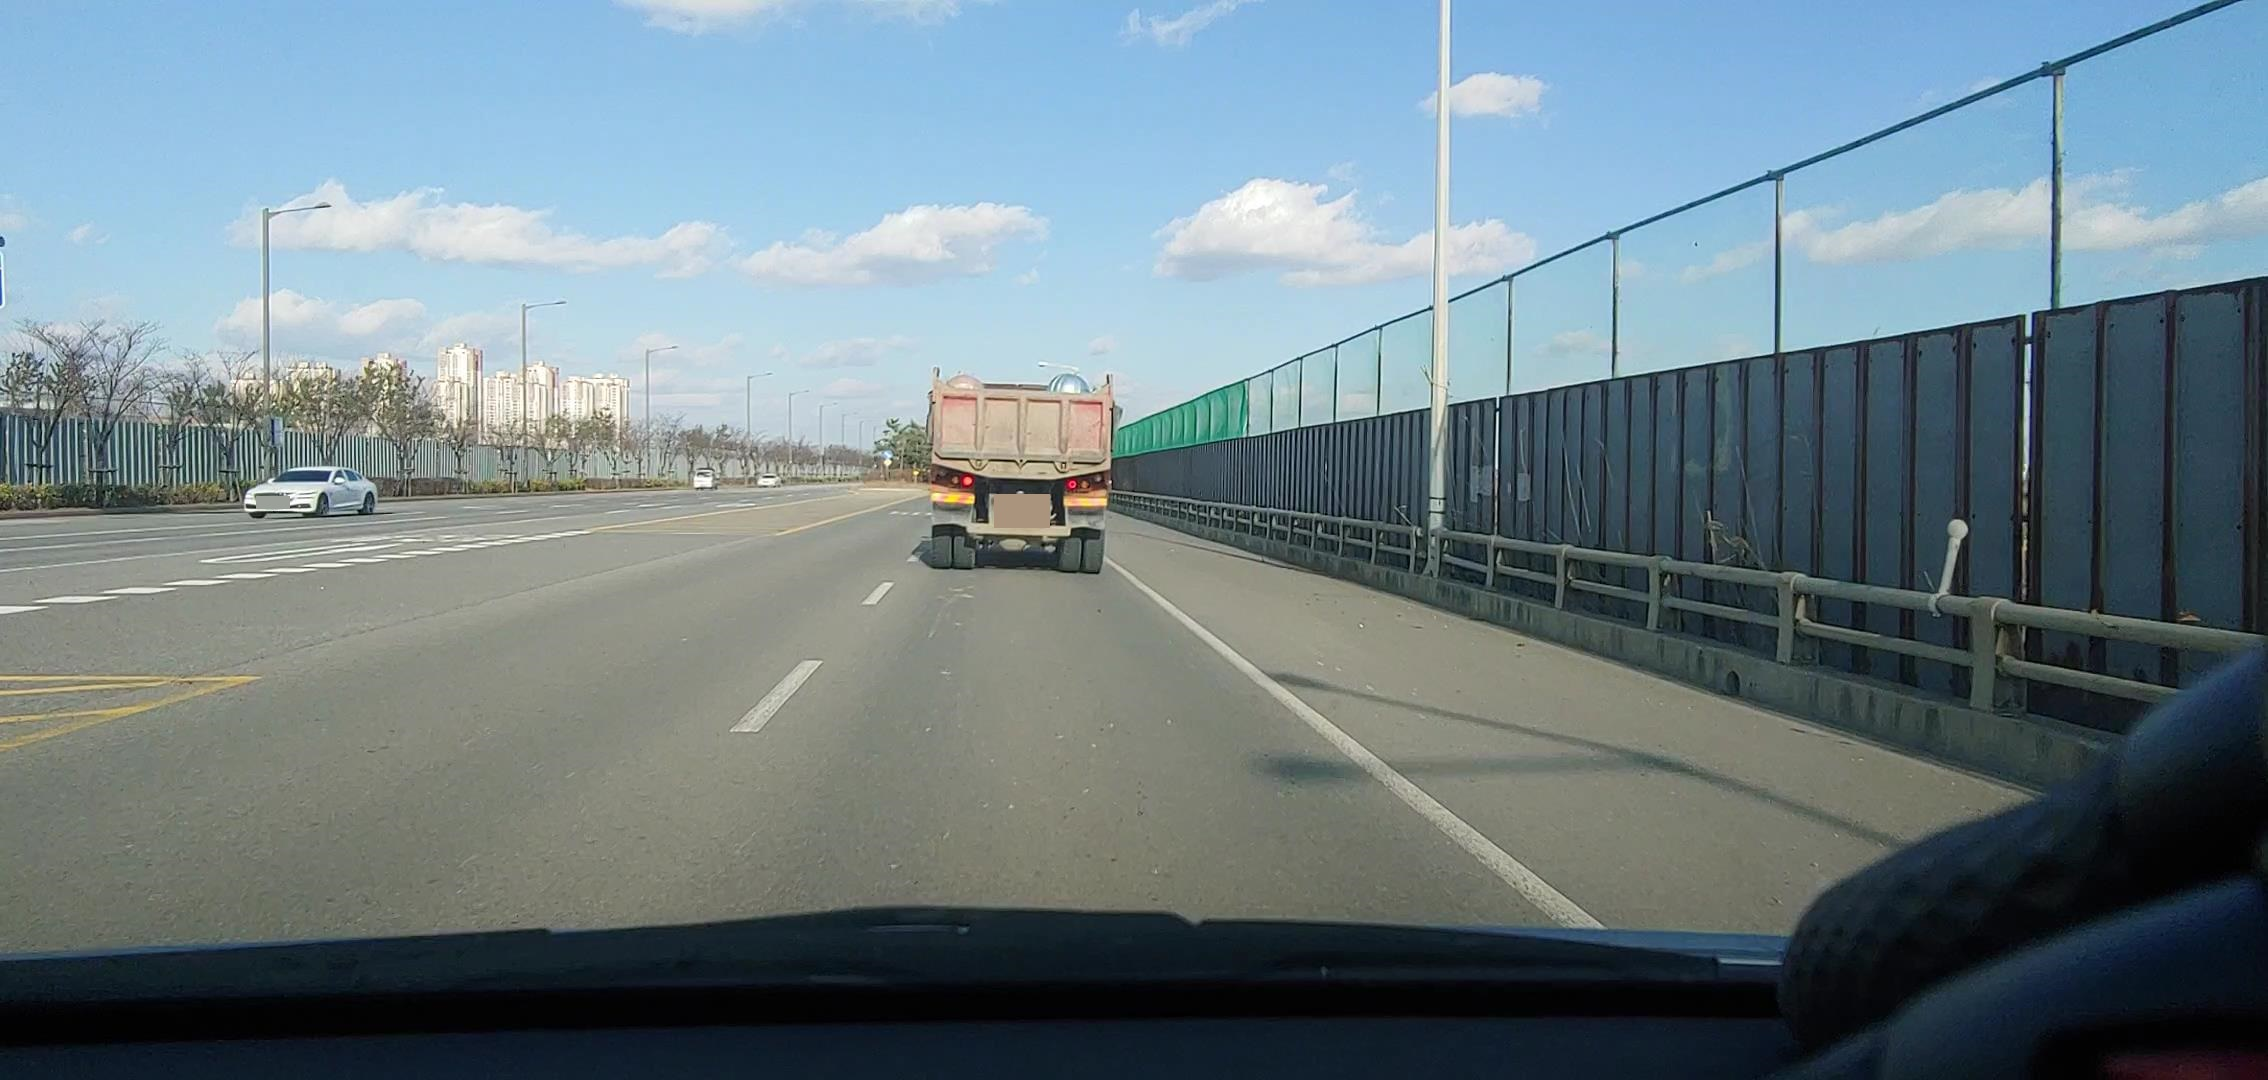불법차량: (924, 367, 1124, 574)
